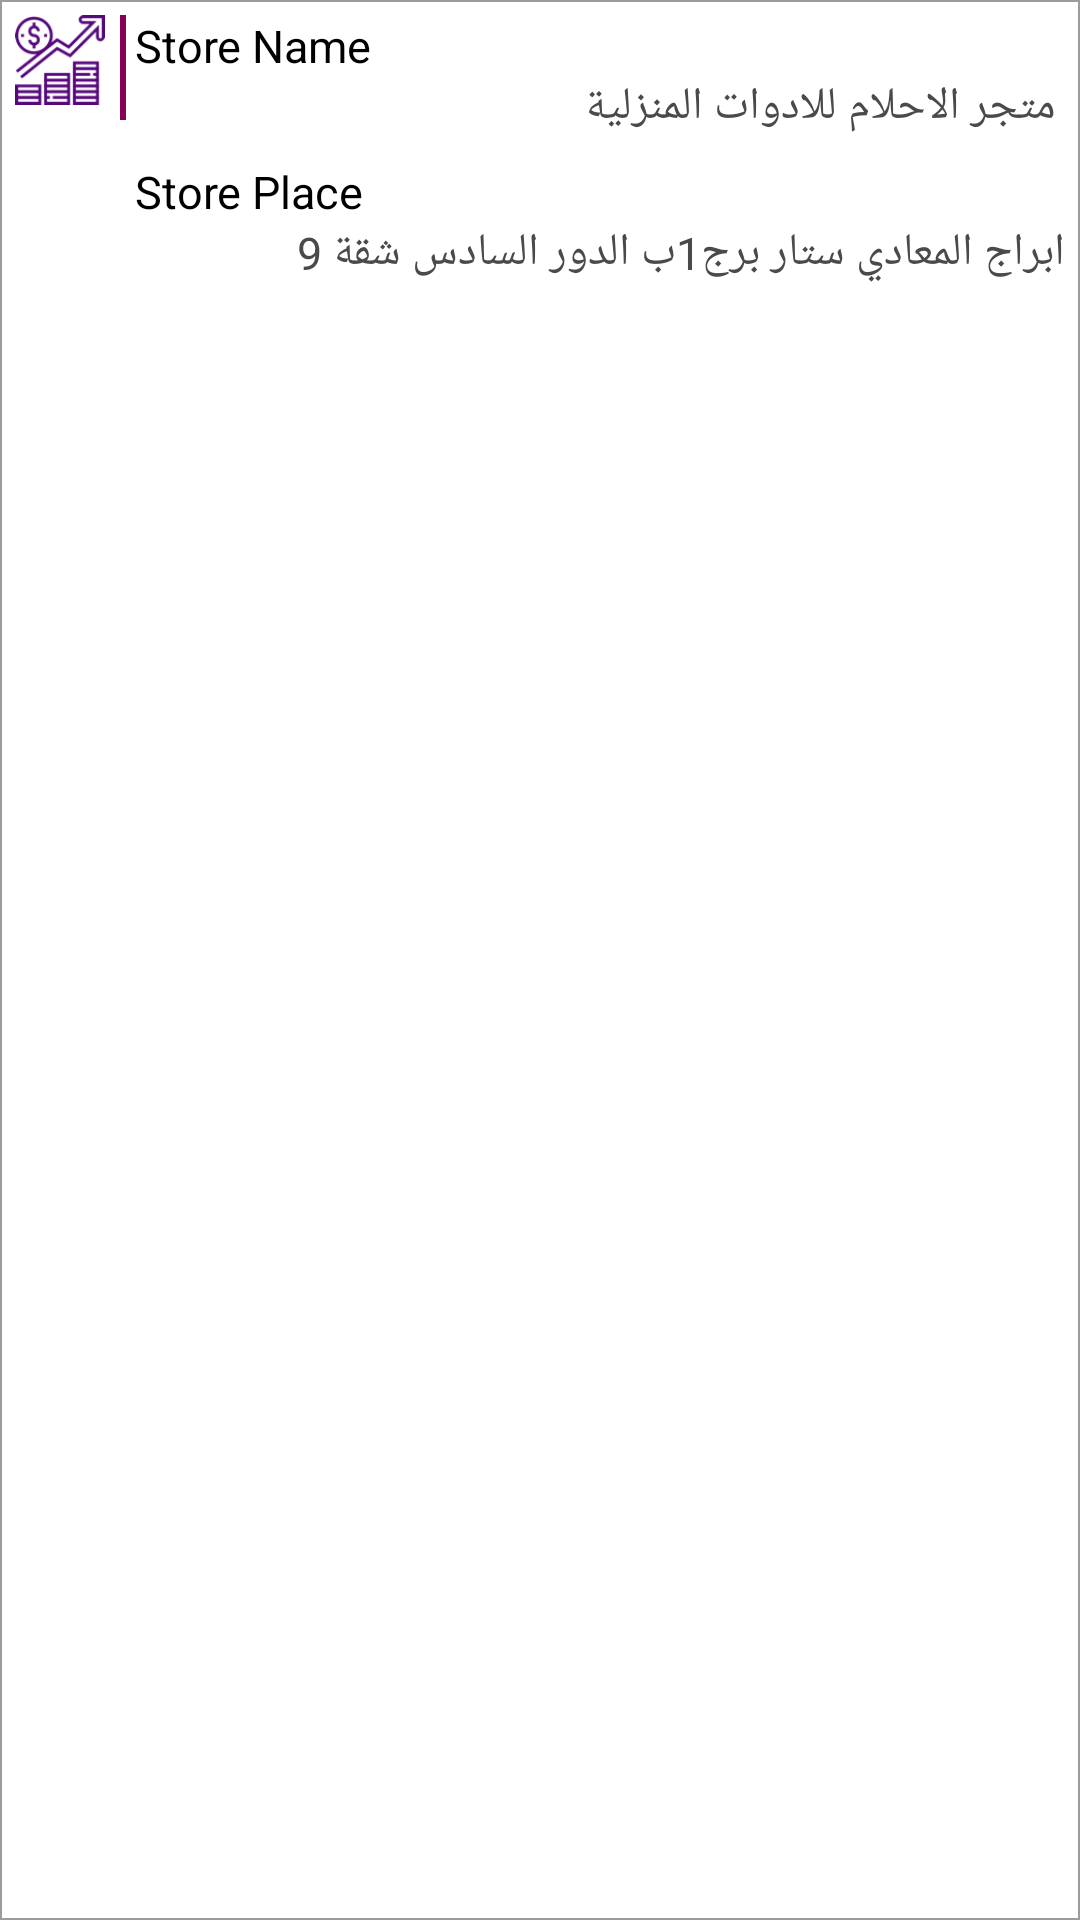

Locate icon controls on the screen. Image size 1080x1920, boxes as (x1, y1, x2, y2).
income: (15, 15, 105, 105)
